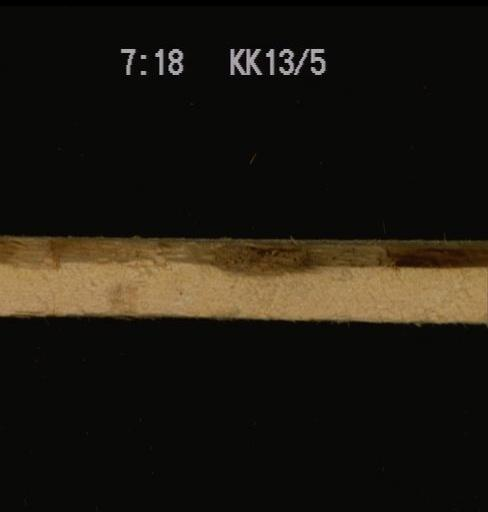wave: (0, 217, 486, 271)
